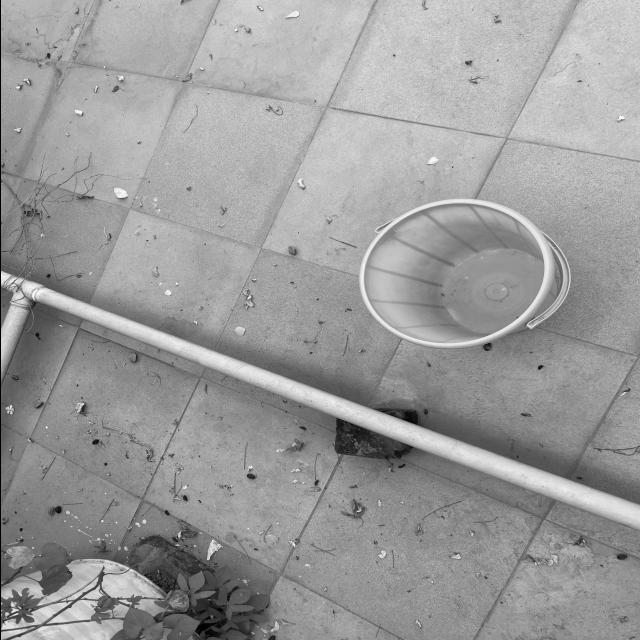Breeding Place: (365, 200, 566, 344)
